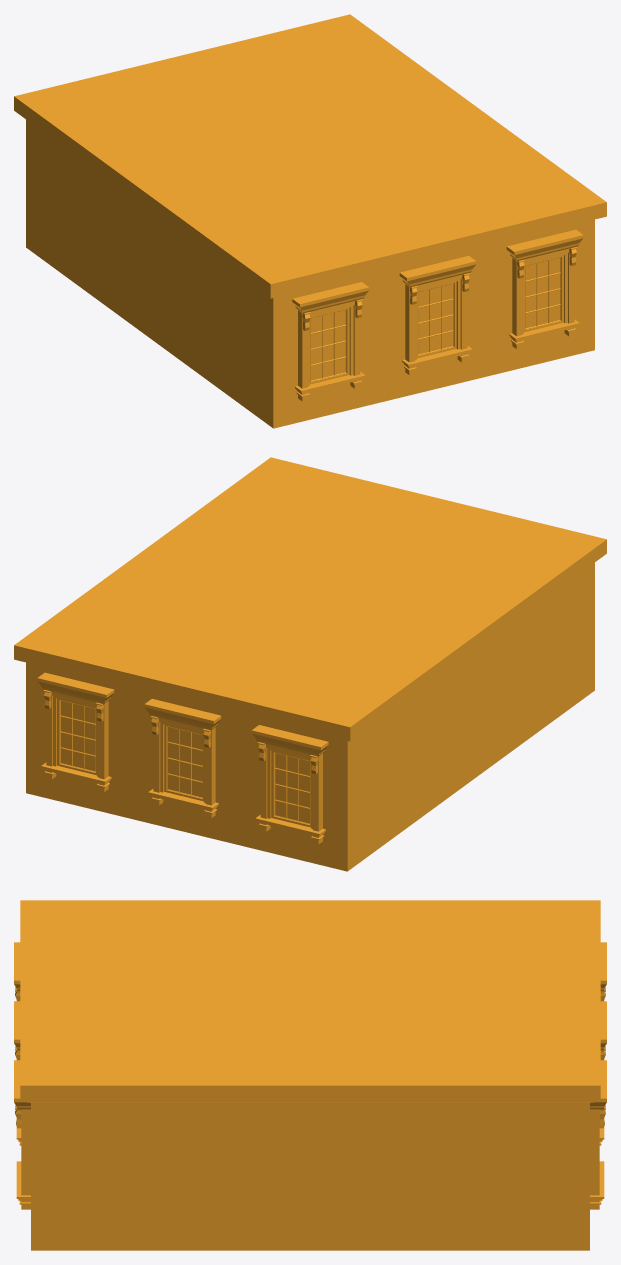
Rendered from SM_Floor_Mid_Square_Win_Fb_Steampunk.fbx.
The picture shows the model from 3 angles, top to bottom: view 1: azimuth 30°, elevation 25°; view 2: azimuth 150°, elevation 25°; view 3: azimuth 270°, elevation 25°; orthographic projection. The views are drawn at different scales.
Visible parts, largest first — view 1: floor-mid-square-win-fb-steampunk; view 2: floor-mid-square-win-fb-steampunk; view 3: floor-mid-square-win-fb-steampunk.
Boxes of the visible parts, box(x1,y1,x2,y2) form: floor-mid-square-win-fb-steampunk: box(14, 14, 606, 428); floor-mid-square-win-fb-steampunk: box(14, 457, 606, 871); floor-mid-square-win-fb-steampunk: box(14, 900, 606, 1250).
Bounding box in the file's own units: 9.41 × 4 × 12.73.
